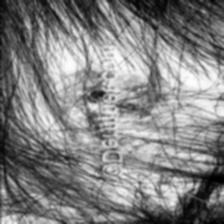Potentially Malignant Skin Tumors: (61, 70, 154, 138)
